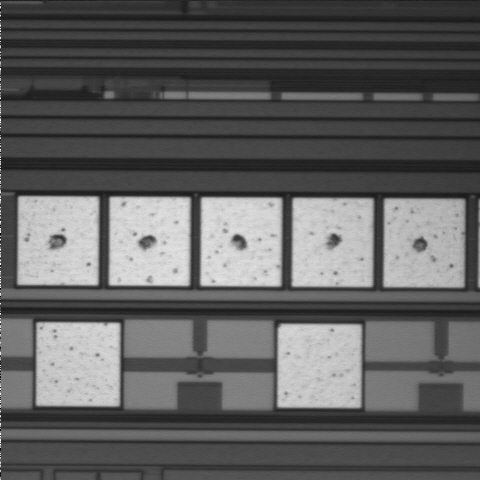pad: (109, 197, 190, 286), (18, 197, 98, 285), (201, 198, 281, 286), (292, 198, 372, 286), (37, 323, 120, 406), (278, 324, 361, 407), (384, 200, 463, 287)
